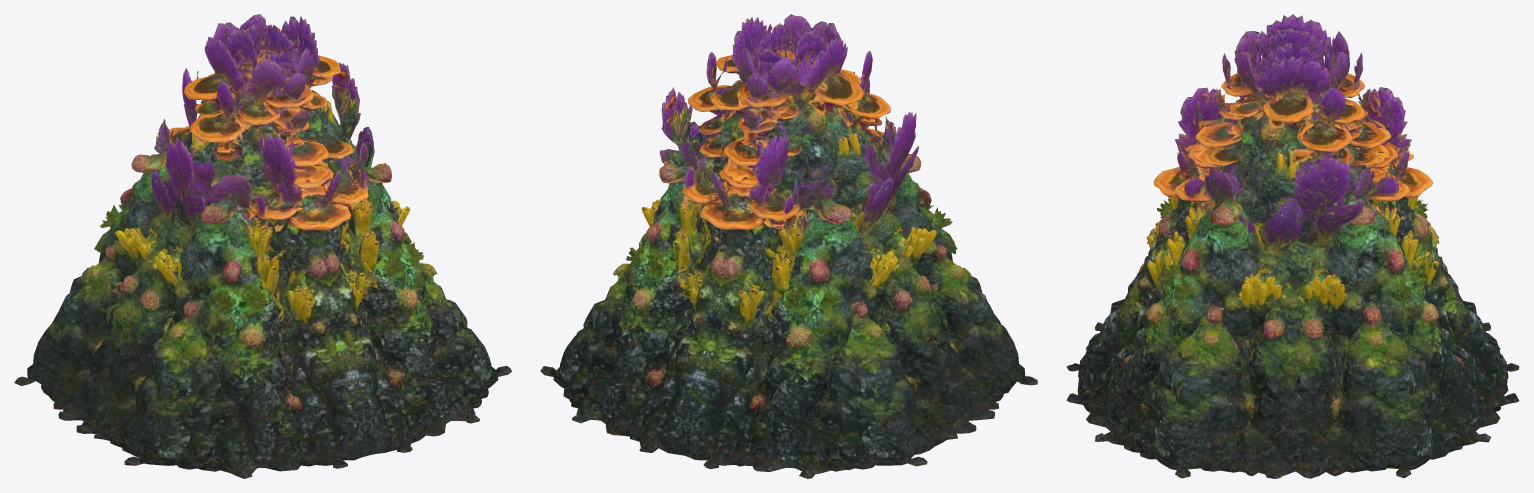
File: coral_mountain.glb
The picture shows the model from 3 angles, left to right: view 1: azimuth 30°, elevation 25°; view 2: azimuth 150°, elevation 25°; view 3: azimuth 270°, elevation 25°; orthographic projection.
Parts seen in each view (by area): view 1: Mesh1.0; view 2: Mesh1.0; view 3: Mesh1.0.
Part boxes in pixels (<box>): Mesh1.0: <box>14,14,511,478</box>; Mesh1.0: <box>540,14,1037,478</box>; Mesh1.0: <box>1066,14,1519,478</box>.
Size of the model in its own units: 1.86 by 1.6 by 1.87.
1 material, 1 textured.
